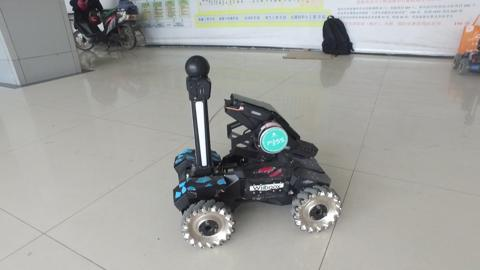bag: (320, 14, 355, 59), (458, 13, 480, 56)
chariot: (169, 53, 344, 250)
